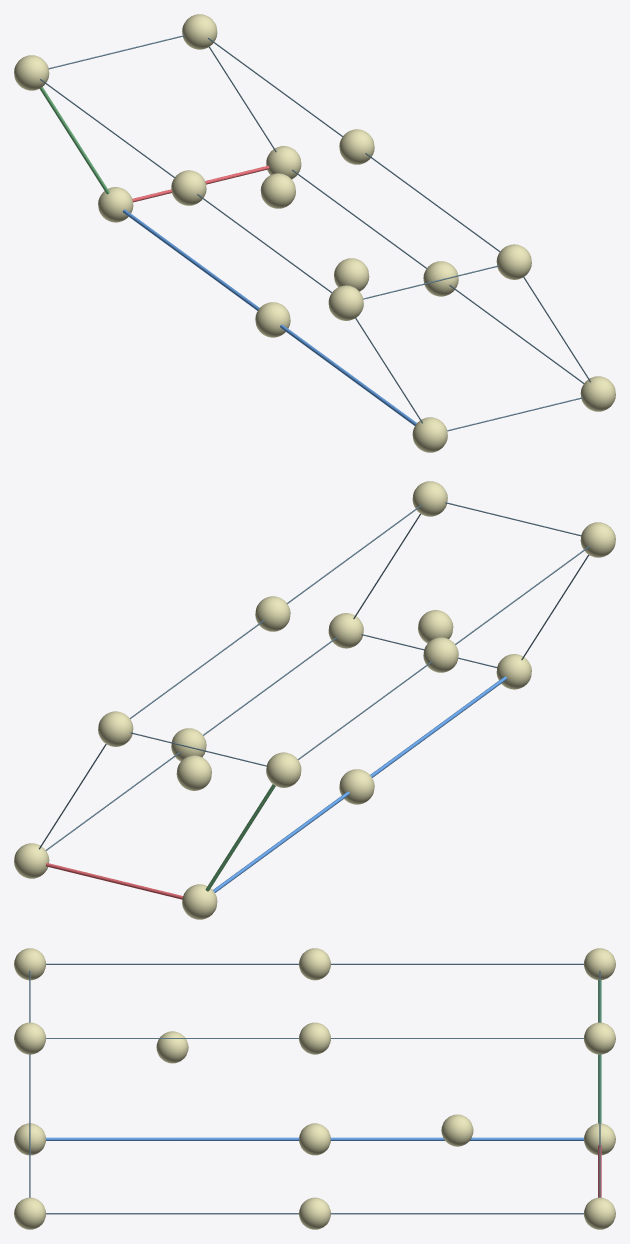
File: nguyen-to-cm.glb
3 renders of one model, top to bottom at view 1: azimuth 30°, elevation 25°; view 2: azimuth 150°, elevation 25°; view 3: azimuth 270°, elevation 25°, orthographic. The views are drawn at different scales.
Parts seen in each view (by area): view 1: Cm1 · Cm · 1 (×12), Ô mạng và các trục a, b, c, Cm2 · Cm · 1 (×2); view 2: Cm1 · Cm · 1 (×12), Ô mạng và các trục a, b, c, Cm2 · Cm · 1 (×2); view 3: Cm1 · Cm · 1 (×12), Ô mạng và các trục a, b, c, Cm2 · Cm · 1 (×2).
Boxes of the visible parts, x1,y1,x2,y2 form: Cm1 · Cm · 1 (×12): [14, 14, 615, 452]; Ô mạng và các trục a, b, c: [40, 35, 590, 431]; Cm2 · Cm · 1 (×2): [260, 173, 369, 291]; Cm1 · Cm · 1 (×12): [14, 481, 615, 919]; Ô mạng và các trục a, b, c: [39, 502, 589, 899]; Cm2 · Cm · 1 (×2): [176, 610, 453, 790]; Cm1 · Cm · 1 (×12): [14, 948, 615, 1229]; Ô mạng và các trục a, b, c: [29, 963, 601, 1214]; Cm2 · Cm · 1 (×2): [156, 1031, 473, 1146].
Size of the model in its own units: 5.88 by 3.67 by 11.97.
